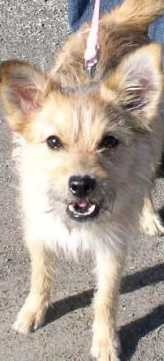Dog: (0, 0, 163, 346)
